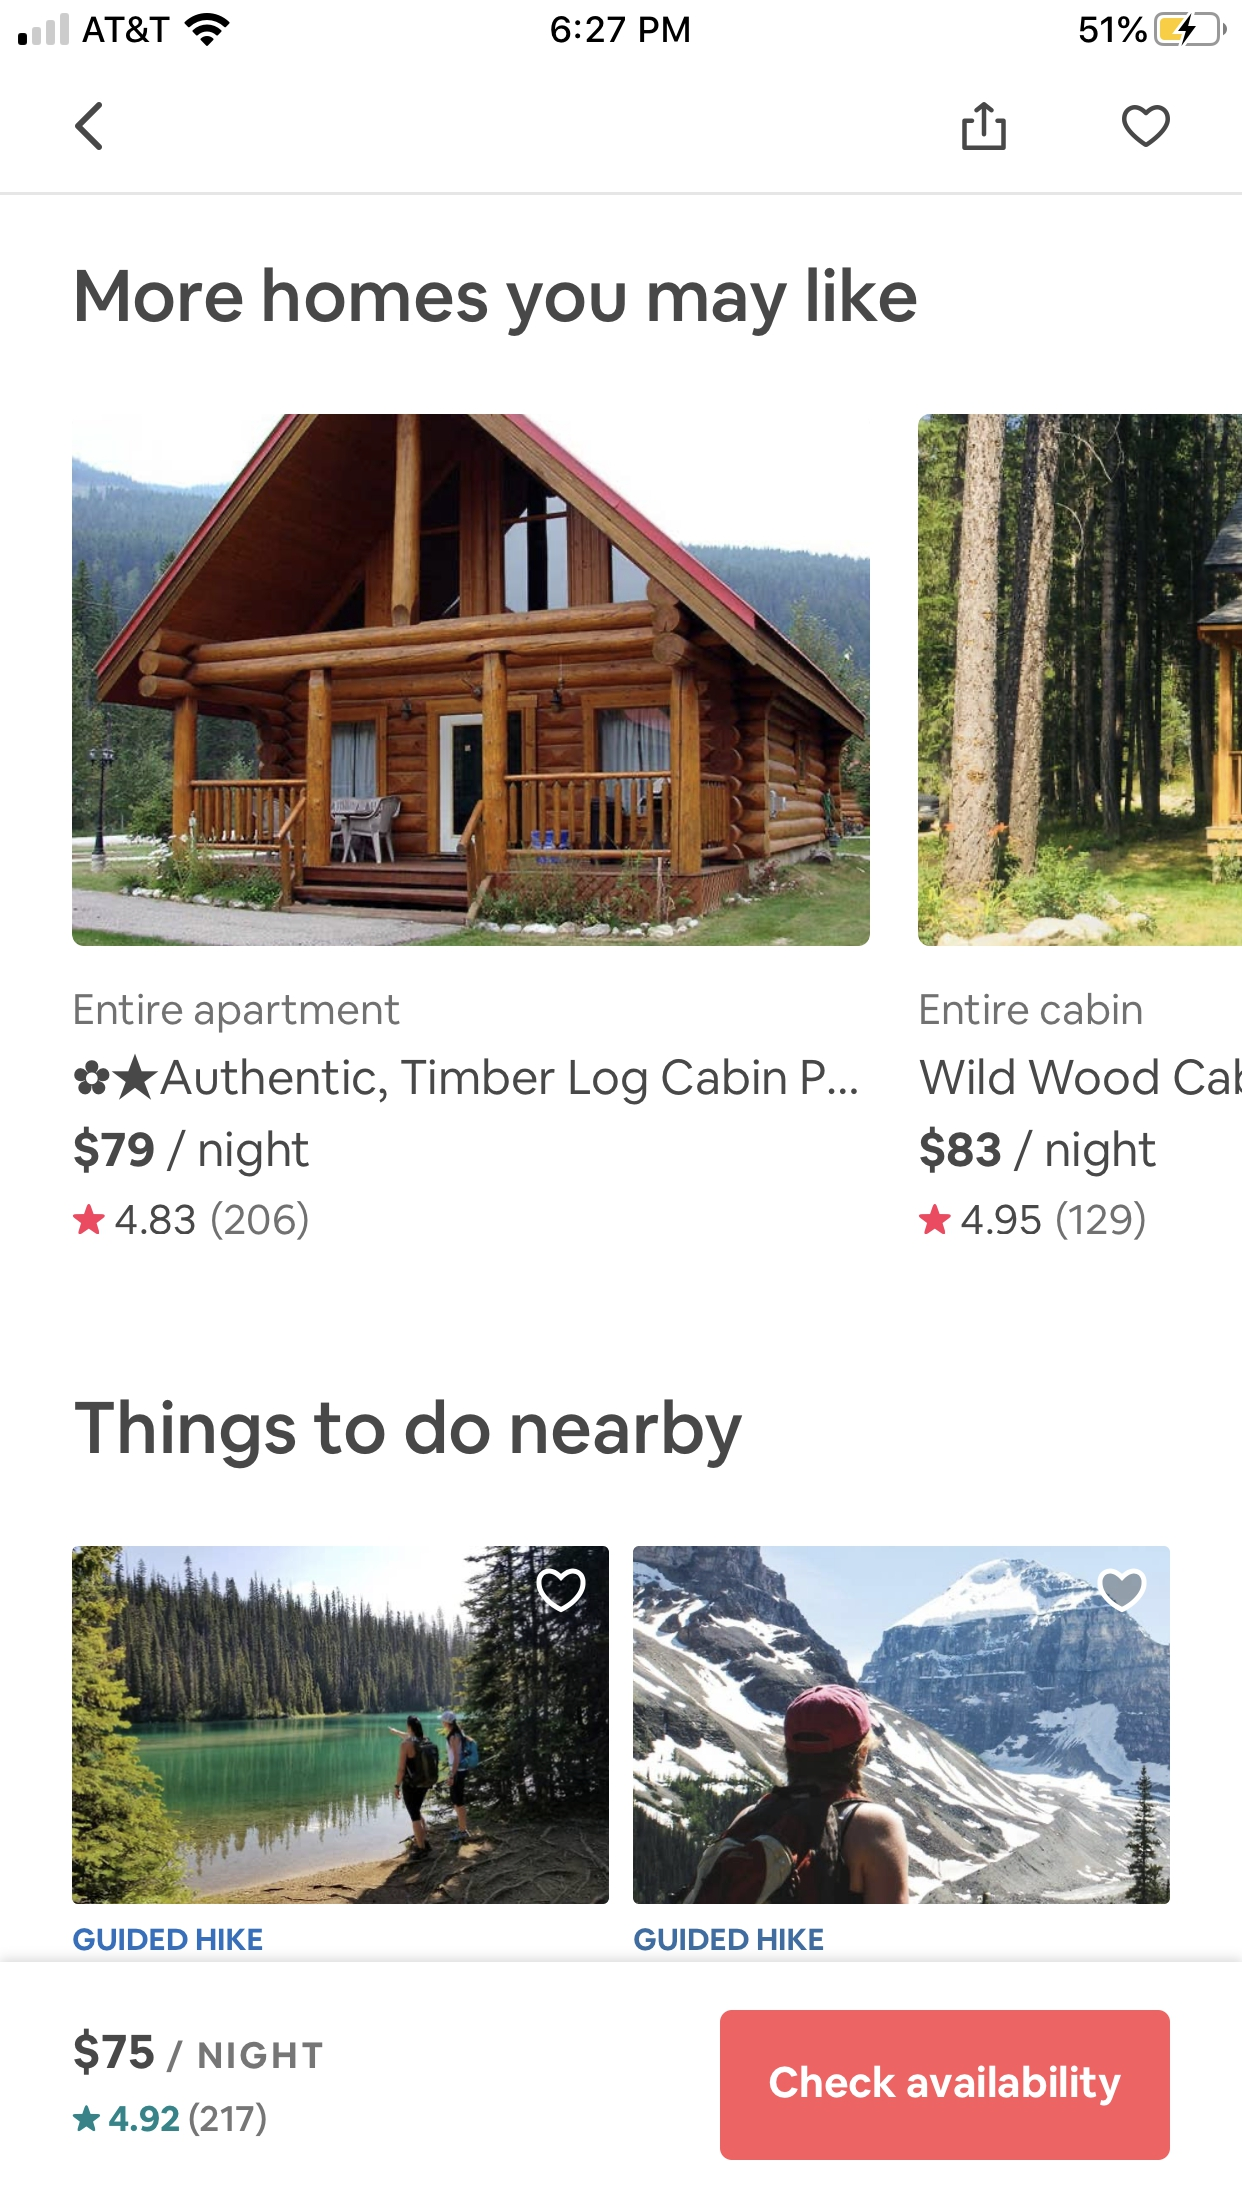Icon: (961, 102, 1007, 152), (537, 1570, 585, 1614), (1098, 1568, 1146, 1612), (1122, 105, 1171, 149), (114, 1054, 159, 1099), (74, 102, 103, 152), (919, 1204, 951, 1234), (74, 1204, 106, 1234), (74, 2105, 102, 2131)
Image: (73, 416, 870, 946), (71, 1545, 610, 1905), (634, 1545, 1171, 1905), (917, 416, 1242, 946), (74, 1060, 111, 1095)
Text: (77, 267, 917, 337), (74, 1400, 743, 1469), (161, 1059, 857, 1104), (74, 993, 400, 1034), (921, 1059, 1242, 1096), (921, 1127, 1156, 1177), (74, 1127, 309, 1177), (74, 2028, 323, 2075), (921, 993, 1143, 1027), (634, 1927, 823, 1950), (74, 1929, 262, 1952), (212, 1201, 309, 1240), (1057, 1201, 1145, 1240), (190, 2102, 267, 2137), (115, 1204, 196, 1234), (961, 1206, 1040, 1234), (111, 2106, 180, 2131)
TextButton: (720, 2009, 1171, 2161)
UpperTaskBar: (2, 2, 1242, 47)
